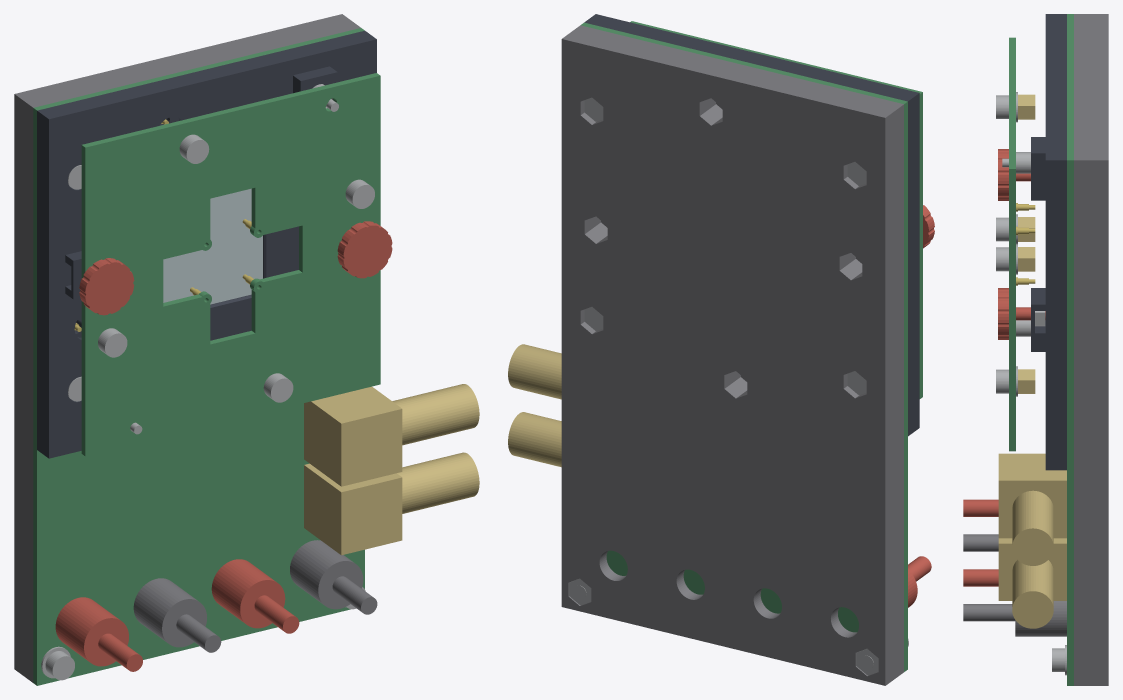
The model's file is T2P-L-pin_open.glb.
3 renders of one model, left to right at view 1: azimuth 30°, elevation 25°; view 2: azimuth 150°, elevation 25°; view 3: azimuth 270°, elevation 25°, orthographic. The views are drawn at different scales.
Parts seen in each view (by area): view 1: p032, p001, p002, p000, p013, p012, p007, p010, p008, p009, p011, p049 (+1 smaller); view 2: p000, p002, p001, p013, p012, p032, p008; view 3: p000, p002, p013, p001, p012, p032, p011, p050, p049, p008, p009, p010 (+11 smaller).
Boxes of the visible parts, left/top/right/bottom form: p032: left=81, top=73, right=380, bottom=456; p001: left=33, top=28, right=364, bottom=685; p002: left=37, top=30, right=376, bottom=458; p000: left=14, top=14, right=360, bottom=682; p013: left=304, top=384, right=479, bottom=486; p012: left=304, top=452, right=479, bottom=555; p007: left=163, top=188, right=262, bottom=304; p010: left=211, top=559, right=299, bottom=633; p008: left=55, top=597, right=142, bottom=671; p009: left=133, top=578, right=221, bottom=652; p011: left=290, top=540, right=377, bottom=614; p049: left=79, top=258, right=134, bottom=315; p000: left=561, top=25, right=903, bottom=685; p002: left=584, top=14, right=919, bottom=436; p001: left=581, top=22, right=907, bottom=671; p013: left=508, top=344, right=561, bottom=399; p012: left=508, top=412, right=561, bottom=467; p032: left=630, top=21, right=922, bottom=398; p008: left=908, top=556, right=931, bottom=607; p000: left=1074, top=14, right=1108, bottom=685; p002: left=1031, top=14, right=1066, bottom=470; p013: left=998, top=453, right=1066, bottom=565; p001: left=1067, top=14, right=1073, bottom=685; p012: left=998, top=538, right=1066, bottom=628; p032: left=1009, top=37, right=1015, bottom=451; p011: left=963, top=601, right=1066, bottom=636; p050: left=998, top=288, right=1045, bottom=339; p049: left=998, top=149, right=1030, bottom=200; p008: left=963, top=499, right=998, bottom=516; p009: left=963, top=534, right=998, bottom=551; p010: left=963, top=569, right=998, bottom=586.
Size of the model in its own units: 101 by 134 by 33.6.
